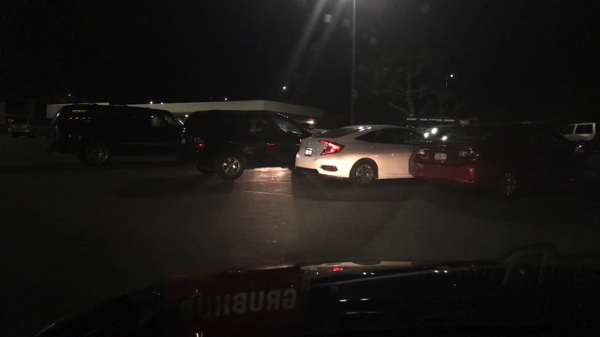car: (411, 122, 573, 198), (178, 110, 306, 180), (294, 123, 428, 187), (47, 103, 181, 166), (574, 139, 599, 189), (8, 116, 47, 139), (420, 123, 455, 144), (304, 120, 333, 133)
truck: (563, 123, 597, 141)
